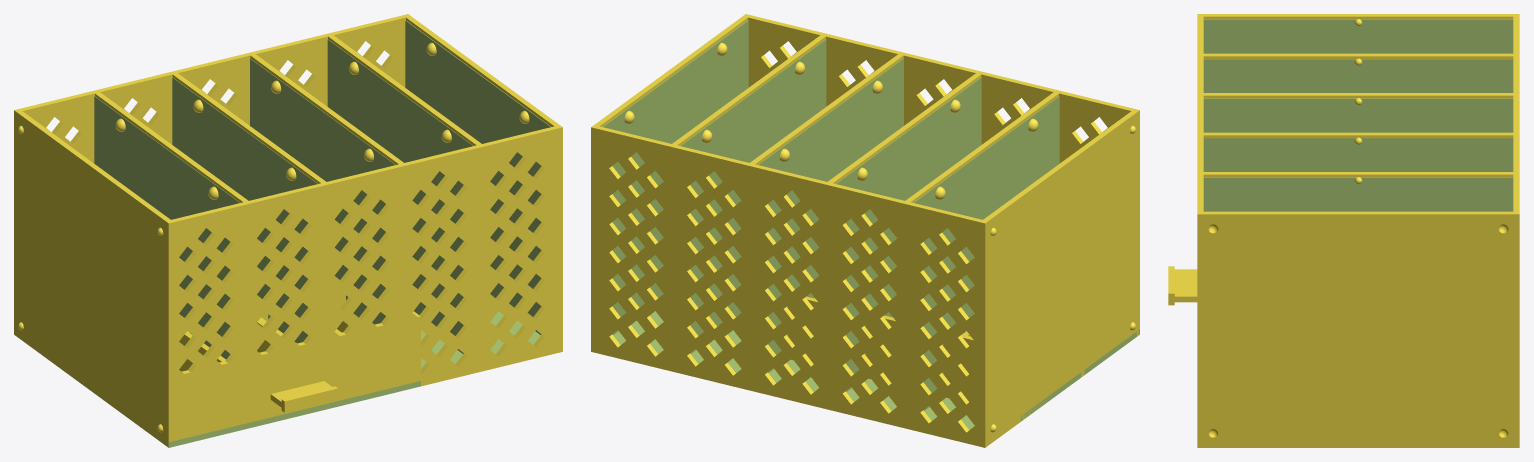
Rendered from openscad_small-parts-cabinet.glb.
3 views of the same model, side by side, from view 1: azimuth 30°, elevation 25°; view 2: azimuth 150°, elevation 25°; view 3: azimuth 270°, elevation 25° (orthographic). The views are drawn at different scales.
Visible parts, largest first — view 1: object; view 2: object; view 3: object.
Boxes of the visible parts, x1=… form: object: x1=14, y1=14, x2=562, y2=447; object: x1=591, y1=14, x2=1139, y2=447; object: x1=1168, y1=14, x2=1519, y2=447.
Size of the model in its own units: 148 by 80.1 by 109.
